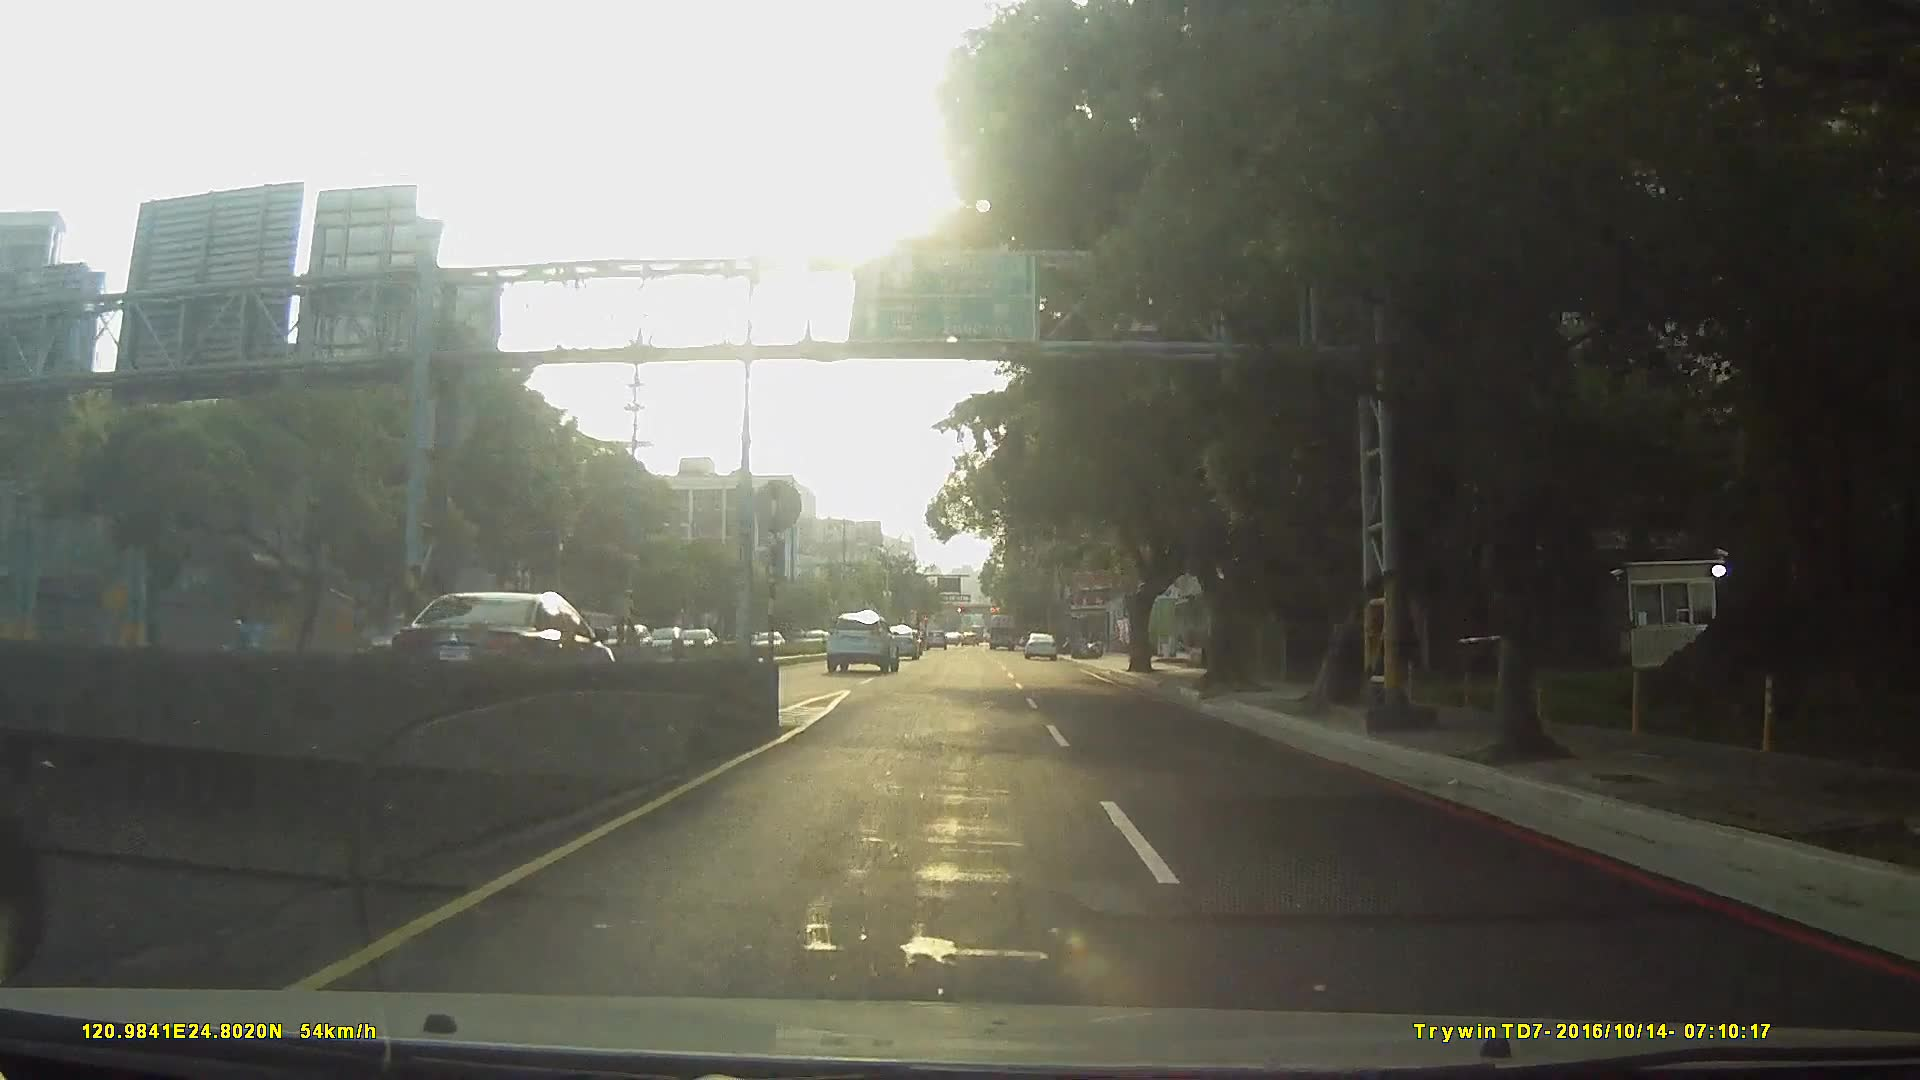vehicle: (390, 589, 617, 698), (824, 609, 899, 675), (878, 624, 920, 659), (986, 611, 1018, 650), (1021, 632, 1058, 661)
